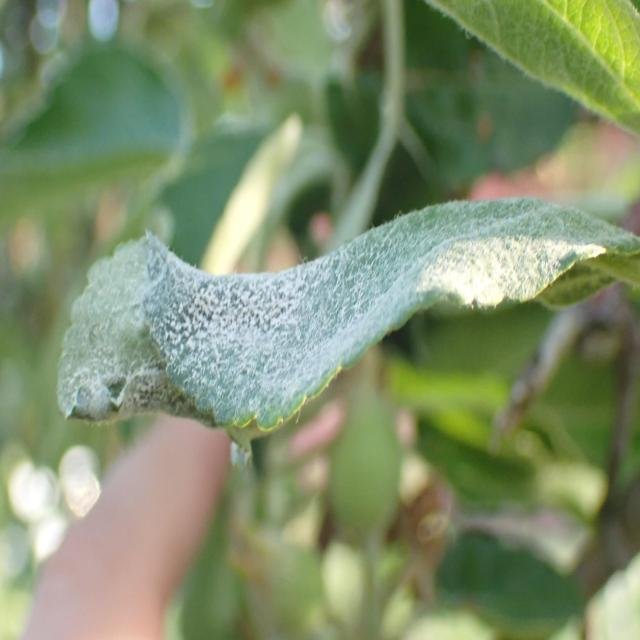Powdery_mildew: (54, 181, 636, 451)
